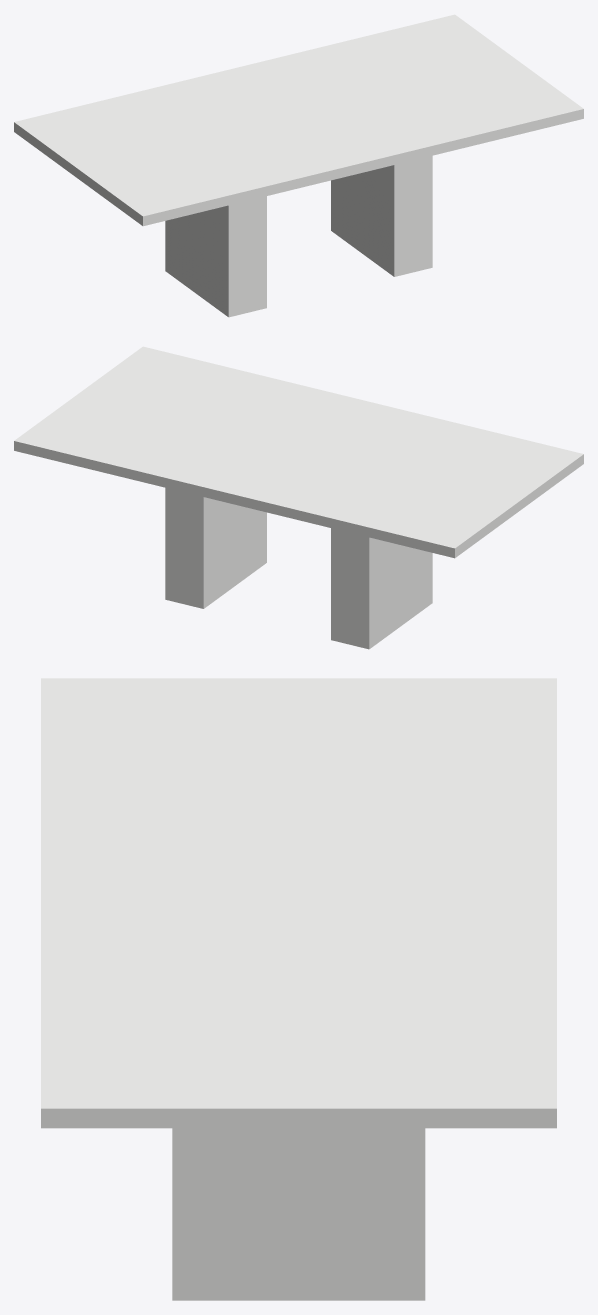
The model's file is purewhite_recta_standard_ridge.glb.
3 renders of one model, top to bottom at view 1: azimuth 30°, elevation 25°; view 2: azimuth 150°, elevation 25°; view 3: azimuth 270°, elevation 25°, orthographic. The views are drawn at different scales.
Visible parts, largest first — view 1: standard_recta, ridge; view 2: standard_recta, ridge; view 3: standard_recta, ridge.
Boxes of the visible parts, x1,y1,x2,y2 form: standard_recta: (14, 14, 583, 226); ridge: (165, 155, 432, 317); standard_recta: (14, 346, 583, 558); ridge: (165, 487, 432, 649); standard_recta: (41, 678, 556, 1128); ridge: (172, 1128, 425, 1300).
Size of the model in its own units: 7.5 by 2.5 by 3.8.
1 material, 1 textured.
